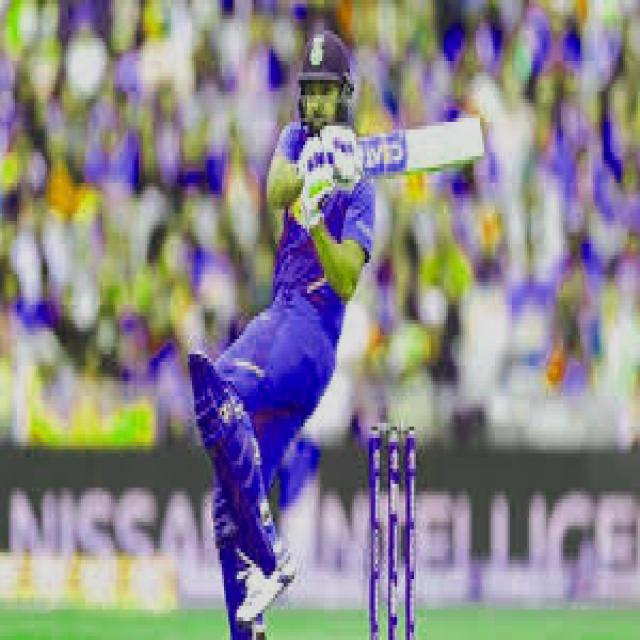toe: (446, 112, 482, 172)
